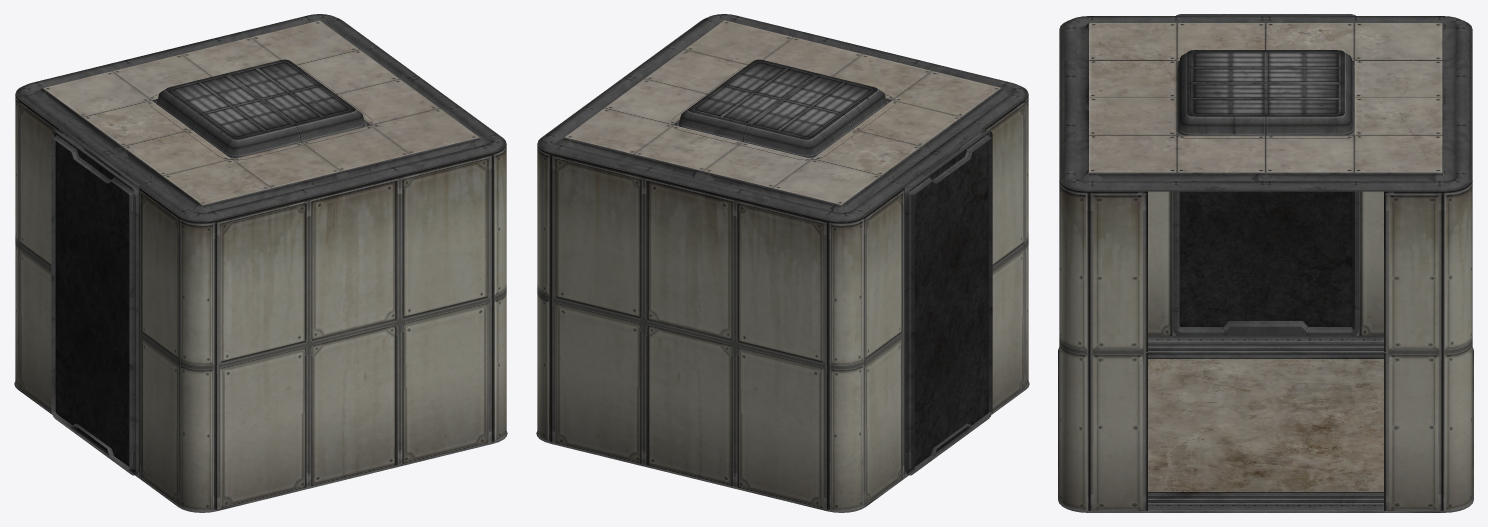
File: 02_06_elevator.dae
The picture shows the model from 3 angles, left to right: view 1: azimuth 30°, elevation 25°; view 2: azimuth 150°, elevation 25°; view 3: azimuth 270°, elevation 25°; orthographic projection. The views are drawn at different scales.
Parts seen in each view (by area): view 1: low, glass; view 2: low, glass; view 3: low, glass.
Part boxes in pixels (left/top/right/bottom): low: left=14, top=14, right=507, bottom=512; glass: left=55, top=133, right=135, bottom=471; low: left=536, top=14, right=1029, bottom=512; glass: left=908, top=133, right=988, bottom=471; low: left=1058, top=14, right=1473, bottom=512; glass: left=1179, top=191, right=1352, bottom=326.
Bounding box in the file's own units: 3.6 × 3.2 × 3.52.
